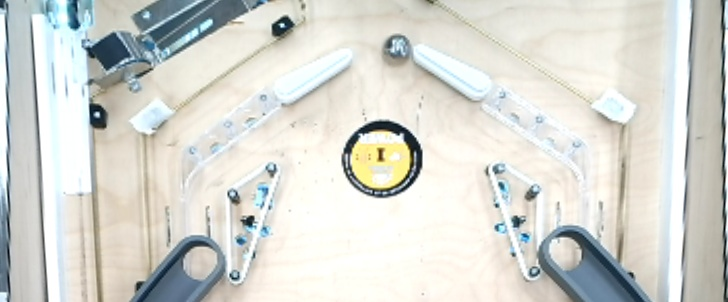ball: (378, 33, 415, 68)
flipper-left: (413, 37, 495, 114)
flipper-right: (271, 41, 358, 107)
